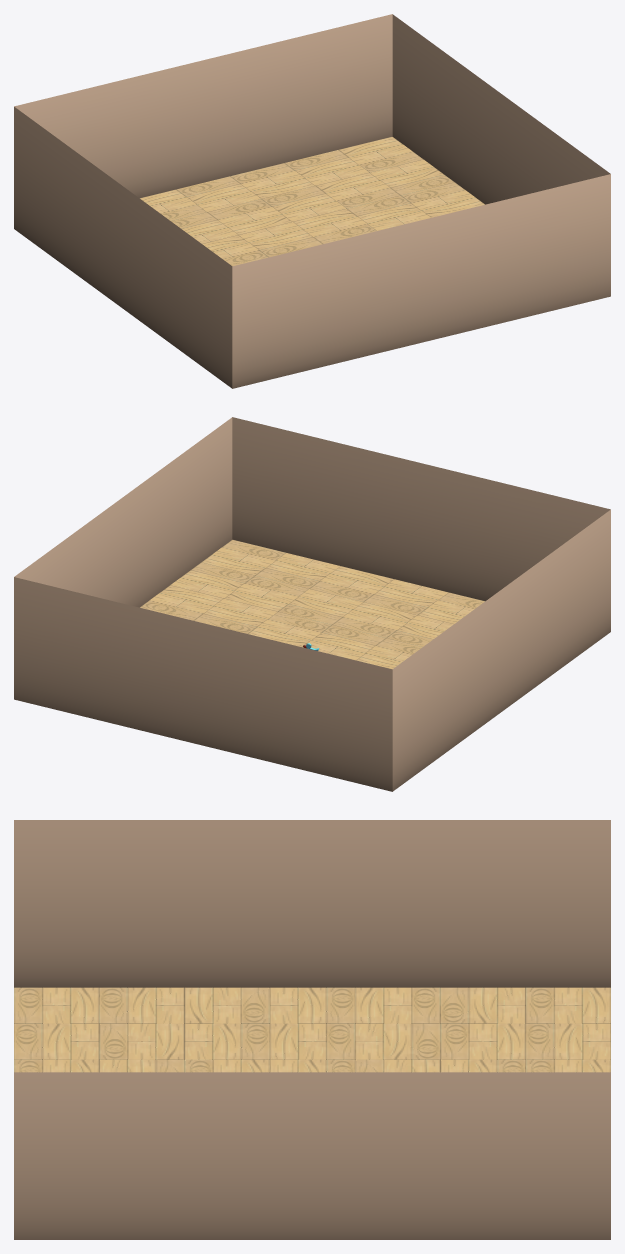
Rendered from board.fbx.
3 views of the same model, one above another, from view 1: azimuth 30°, elevation 25°; view 2: azimuth 150°, elevation 25°; view 3: azimuth 270°, elevation 25° (orthographic). The views are drawn at different scales.
Parts seen in each view (by area): view 1: board; view 2: board; view 3: board.
Part boxes in pixels (x1=…): board: x1=14, y1=14, x2=610, y2=388; board: x1=14, y1=417, x2=610, y2=791; board: x1=14, y1=820, x2=610, y2=1239.
Bounding box in the file's own units: 1228 × 380 × 1228.
